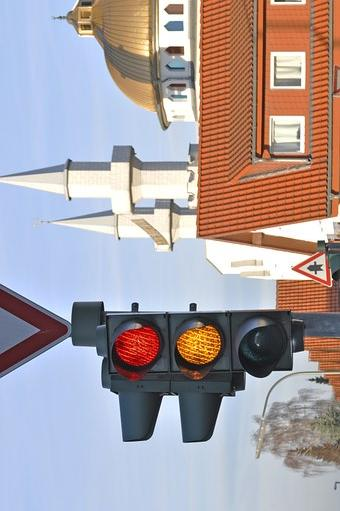trafic: (109, 312, 291, 372)
